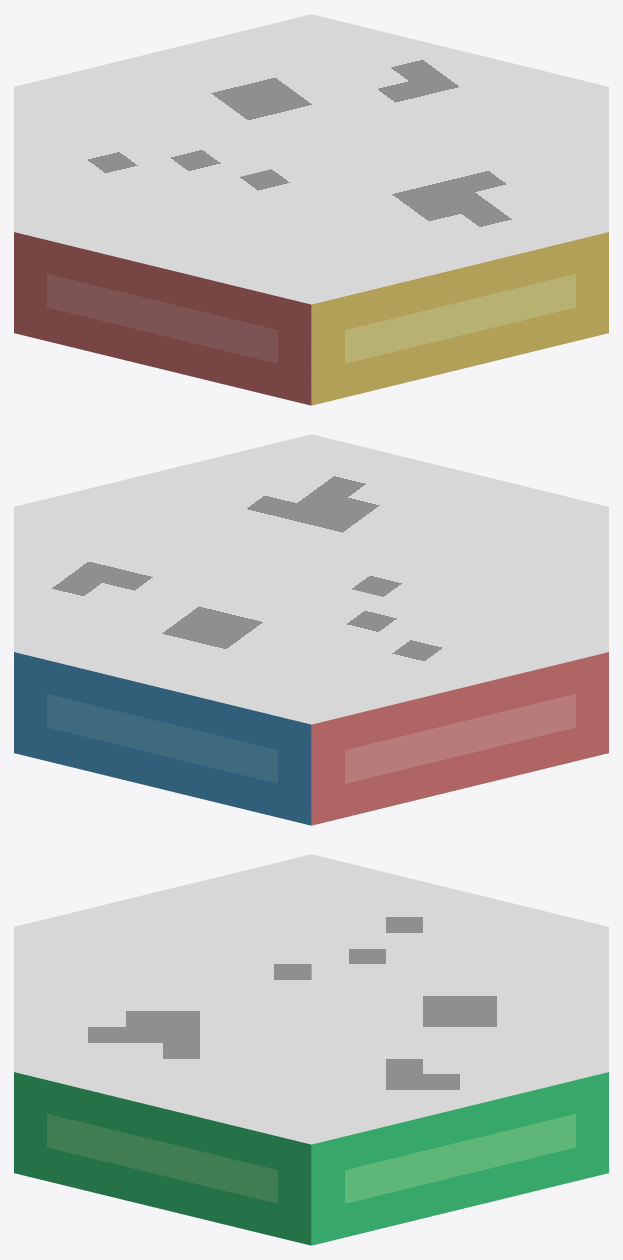
File: snow.glb
The picture shows the model from 3 angles, top to bottom: view 1: azimuth 30°, elevation 25°; view 2: azimuth 150°, elevation 25°; view 3: azimuth 270°, elevation 25°; orthographic projection.
Visible parts, largest first — view 1: cylinder; view 2: cylinder; view 3: cylinder.
Part boxes in pixels (left/top/right/bottom): cylinder: left=14, top=14, right=608, bottom=405; cylinder: left=14, top=434, right=608, bottom=825; cylinder: left=14, top=854, right=608, bottom=1245.
Size of the model in its own units: 1.15 by 0.1875 by 1.
Materials: 1 (1 with a texture image).
